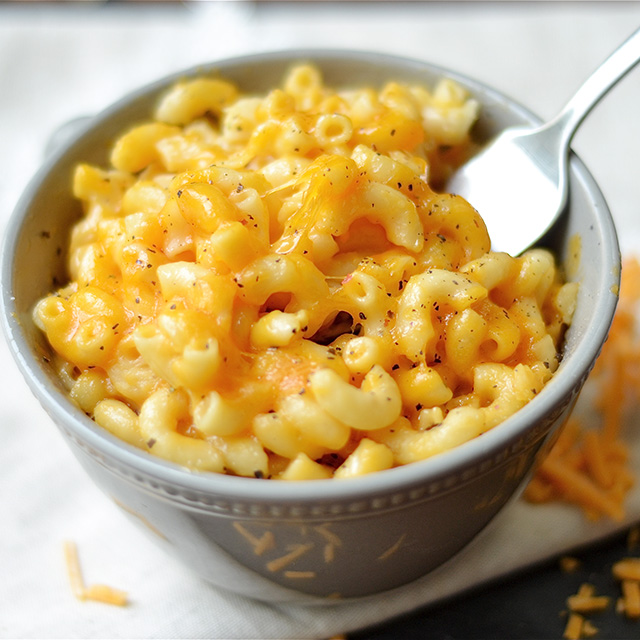macncheese: (88, 115, 539, 458)
